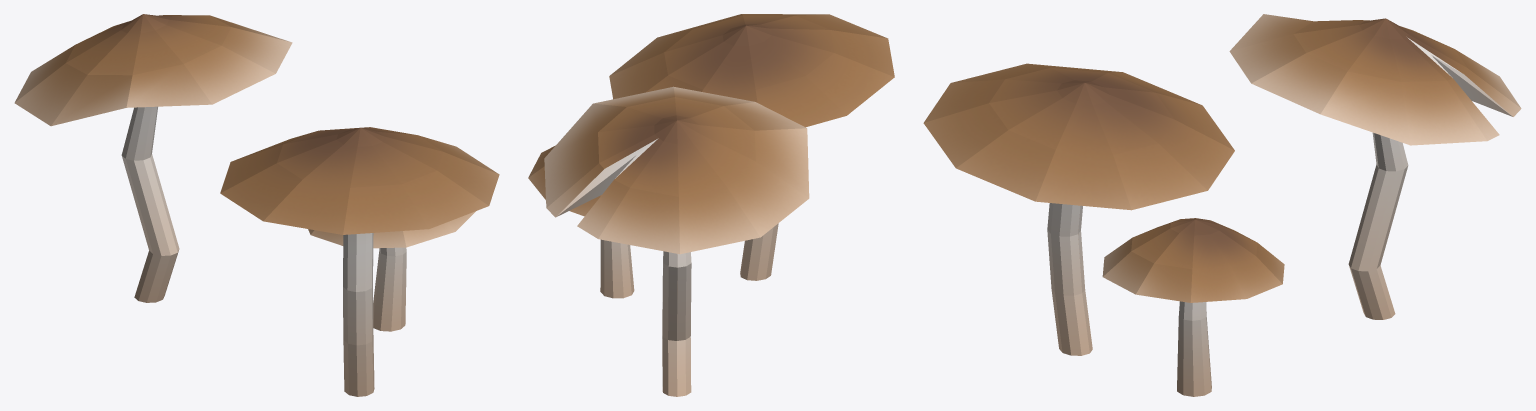
File: deermushrooms.fbx
3 renders of one model, left to right at view 1: azimuth 30°, elevation 25°; view 2: azimuth 150°, elevation 25°; view 3: azimuth 270°, elevation 25°, orthographic. The views are drawn at different scales.
Parts seen in each view (by area): view 1: Cylinder, Cylinder.002, Cylinder.001; view 2: Cylinder.002, Cylinder, Cylinder.001; view 3: Cylinder, Cylinder.002, Cylinder.001.
Part boxes in pixels (left/top/right/bottom): Cylinder: left=220, top=127, right=499, bottom=396; Cylinder.002: left=14, top=14, right=292, bottom=302; Cylinder.001: left=308, top=211, right=475, bottom=331; Cylinder.002: left=544, top=86, right=809, bottom=396; Cylinder: left=609, top=14, right=894, bottom=280; Cylinder.001: left=528, top=145, right=634, bottom=298; Cylinder: left=923, top=63, right=1234, bottom=355; Cylinder.002: left=1229, top=14, right=1521, bottom=319; Cylinder.001: left=1102, top=218, right=1284, bottom=396.
Size of the model in its own units: 218 by 170 by 311.
